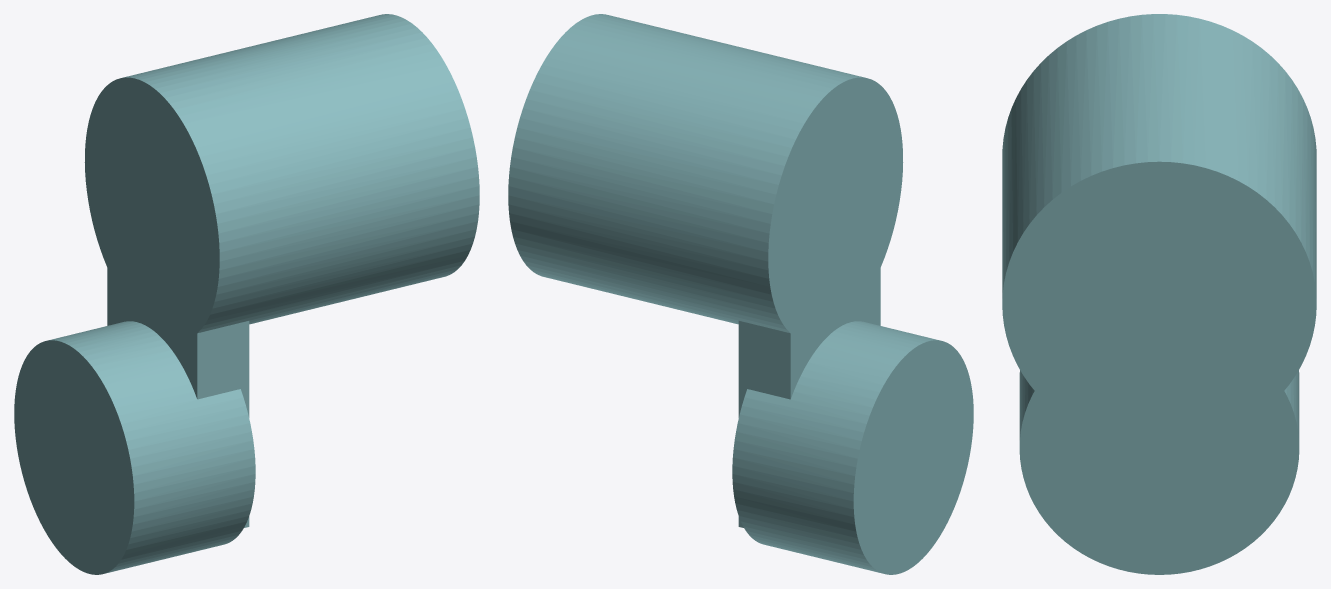
The model's file is crank-throw-demo.glb.
3 views of the same model, side by side, from view 1: azimuth 30°, elevation 25°; view 2: azimuth 150°, elevation 25°; view 3: azimuth 270°, elevation 25° (orthographic). The views are drawn at different scales.
Parts seen in each view (by area): view 1: crank-throw-demo; view 2: crank-throw-demo; view 3: crank-throw-demo.
Boxes of the visible parts, x1,y1,x2,y2 form: crank-throw-demo: (14, 14, 479, 574); crank-throw-demo: (508, 14, 973, 574); crank-throw-demo: (1002, 14, 1316, 574).
Bounding box in the file's own units: 0.078 × 0.1015 × 0.0539.
